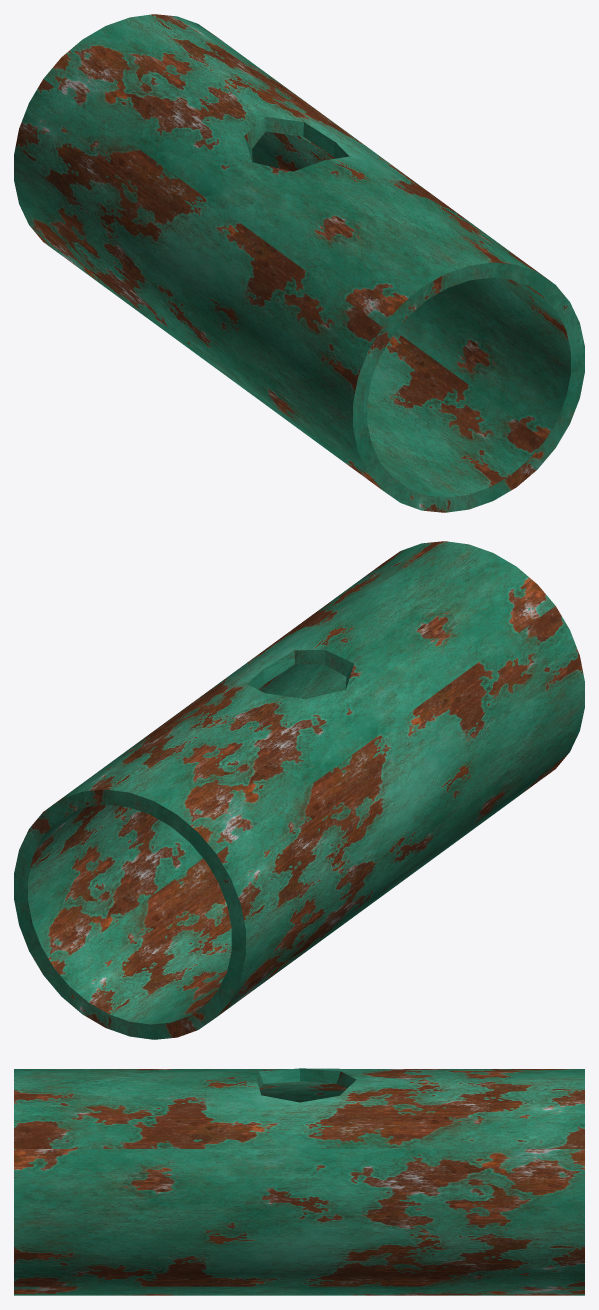
The model's file is CEV10_1.fbx.
3 views of the same model, one above another, from view 1: azimuth 30°, elevation 25°; view 2: azimuth 150°, elevation 25°; view 3: azimuth 270°, elevation 25° (orthographic). The views are drawn at different scales.
Visible parts, largest first — view 1: Cev 1; view 2: Cev 1; view 3: Cev 1.
Boxes of the visible parts, x1,y1,x2,y2 form: Cev 1: (14,14,584,512); Cev 1: (14,541,584,1039); Cev 1: (14,1068,584,1295).
Bounding box in the file's own units: 155 × 156 × 394.
